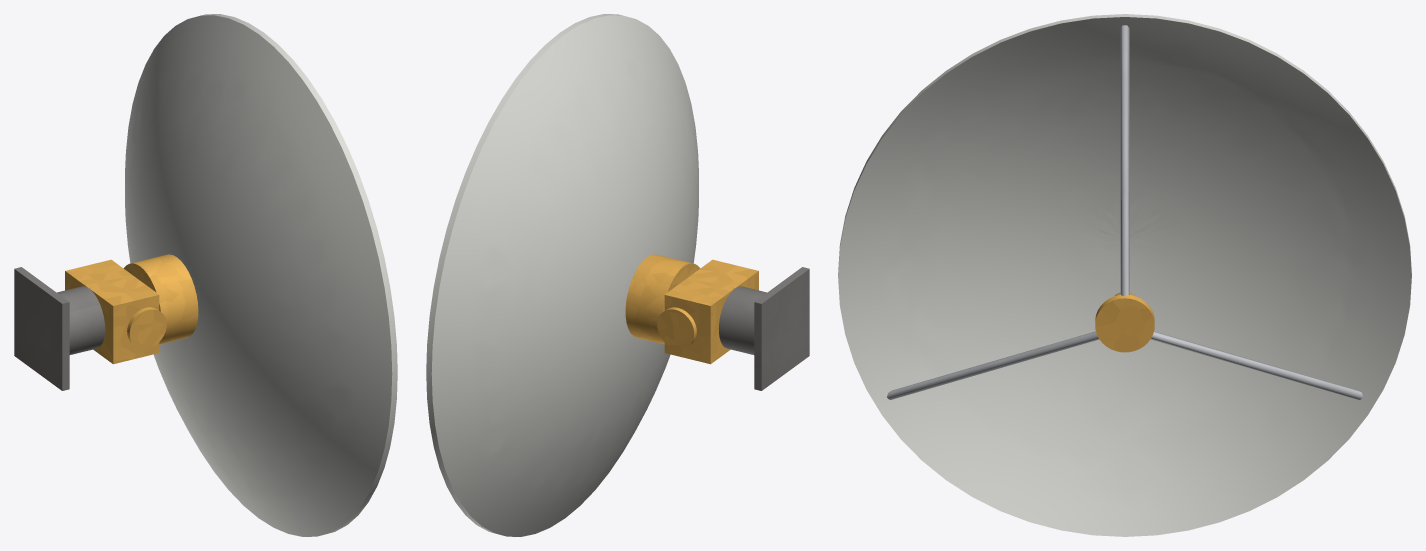
File: power11_hga_dish.glb
3 views of the same model, side by side, from view 1: azimuth 30°, elevation 25°; view 2: azimuth 150°, elevation 25°; view 3: azimuth 270°, elevation 25° (orthographic). The views are drawn at different scales.
Visible parts, largest first — view 1: reflector, two_axis_gimbal, mount_base; view 2: reflector, two_axis_gimbal, mount_base; view 3: reflector, feed_struts, feed.
Part boxes in pixels (x1,y1,x2,y2): reflector: (125,14,397,536); two_axis_gimbal: (65,254,198,364); mount_base: (14,267,105,390); reflector: (426,14,698,536); two_axis_gimbal: (625,254,758,364); mount_base: (718,267,809,390); reflector: (838,14,1411,536); feed_struts: (887,25,1362,399); feed: (1095,292,1154,352).
Size of the model in its own units: 1.72 by 2.5 by 2.5.
Materials: 4 (3 with a texture image).
